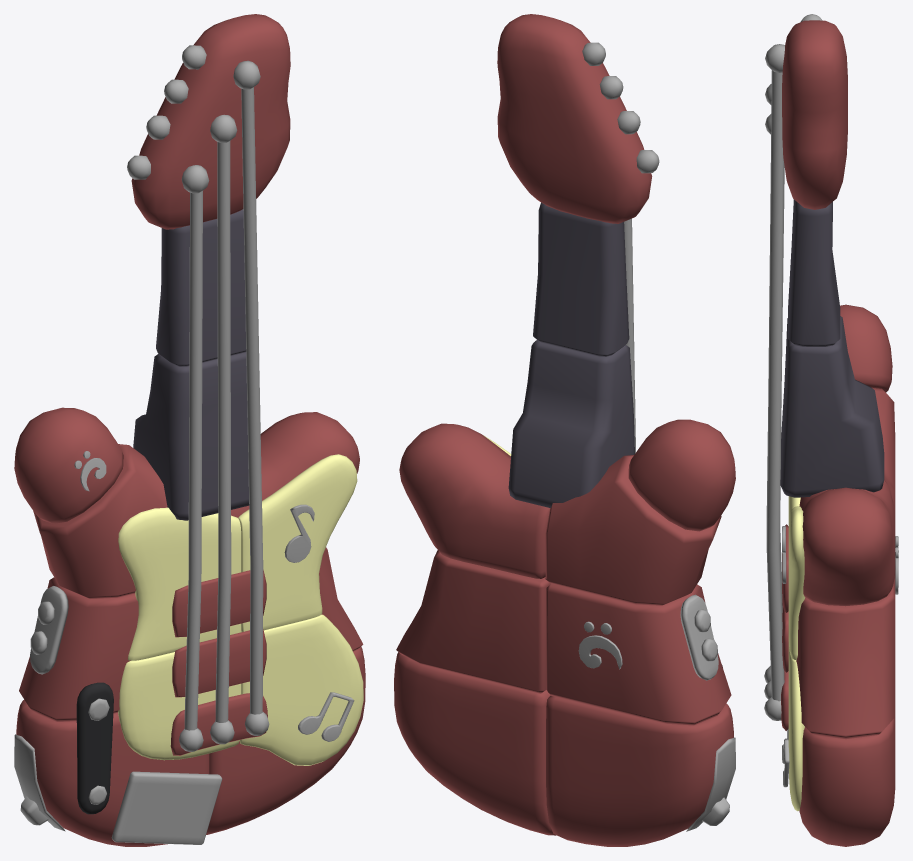
File: Guitar02fix.fbx
3 renders of one model, left to right at view 1: azimuth 30°, elevation 25°; view 2: azimuth 150°, elevation 25°; view 3: azimuth 270°, elevation 25°, orthographic. The views are drawn at different scales.
Visible parts, largest first — view 1: M_Guitar02, S_Guitar02, D_Guitar1, D_Guitar20, D_Guitar19, D_Guitar22, D_Guitar25; view 2: M_Guitar02, D_Guitar20, D_Guitar19, S_Guitar02, D_Guitar21; view 3: M_Guitar02, S_Guitar02, D_Guitar10, D_Guitar7, D_Guitar22.
Boxes of the visible parts, <box> form: M_Guitar02: <box>14,14,365,846</box>; S_Guitar02: <box>76,87,267,814</box>; D_Guitar1: <box>111,771,222,844</box>; D_Guitar20: <box>30,586,68,674</box>; D_Guitar19: <box>14,734,65,831</box>; D_Guitar22: <box>298,692,354,741</box>; D_Guitar25: <box>284,504,314,562</box>; M_Guitar02: <box>394,14,735,846</box>; D_Guitar20: <box>680,594,718,680</box>; D_Guitar19: <box>686,737,735,831</box>; S_Guitar02: <box>624,218,722,667</box>; D_Guitar21: <box>578,621,622,669</box>; M_Guitar02: <box>780,20,895,846</box>; S_Guitar02: <box>766,70,788,730</box>; D_Guitar10: <box>765,44,784,72</box>; D_Guitar7: <box>764,697,781,720</box>; D_Guitar22: <box>782,738,789,787</box>.
Size of the model in its own units: 307 by 705 by 106.
